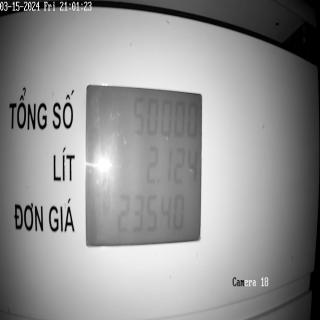screen: (82, 75, 206, 254)
